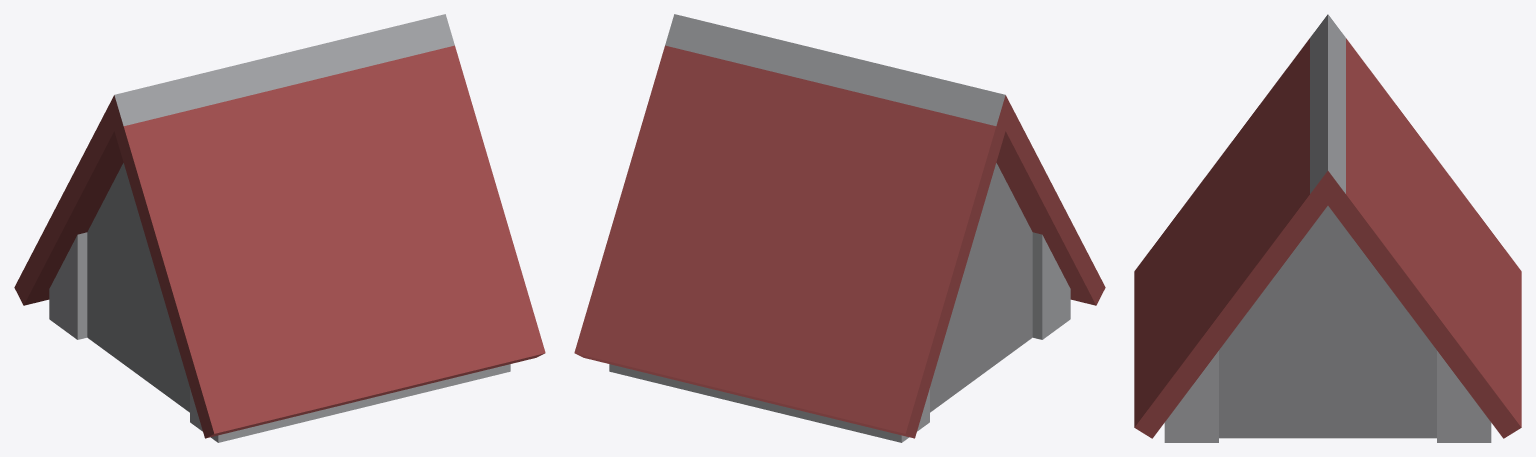
File: Roof_Straight_Red_01.obj
3 views of the same model, side by side, from view 1: azimuth 30°, elevation 25°; view 2: azimuth 150°, elevation 25°; view 3: azimuth 270°, elevation 25° (orthographic). The views are drawn at different scales.
Visible parts, largest first — view 1: Mesh1_Roof_Straight_Red_Model; view 2: Mesh1_Roof_Straight_Red_Model; view 3: Mesh1_Roof_Straight_Red_Model.
Boxes of the visible parts, bbox=[...] form: Mesh1_Roof_Straight_Red_Model: bbox=[14, 14, 545, 442]; Mesh1_Roof_Straight_Red_Model: bbox=[574, 14, 1105, 442]; Mesh1_Roof_Straight_Red_Model: bbox=[1134, 14, 1521, 442].
Bounding box in the file's own units: 3.4 × 2.86 × 3.56.
